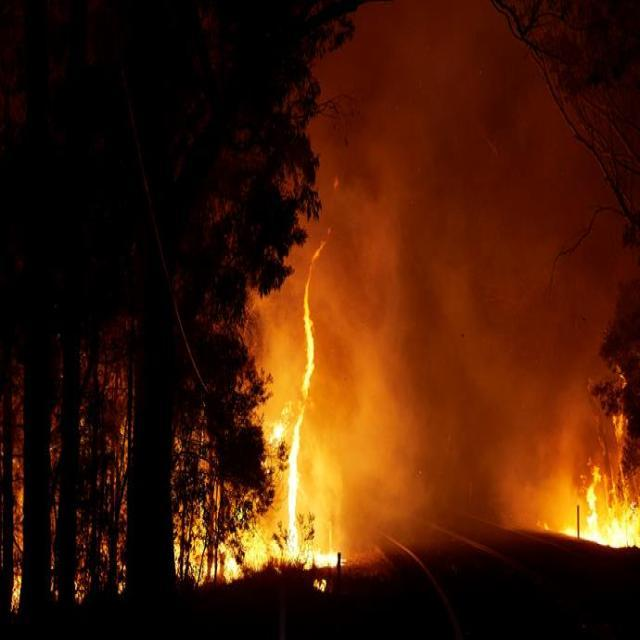Fire: (286, 318, 316, 567), (590, 488, 631, 546)
